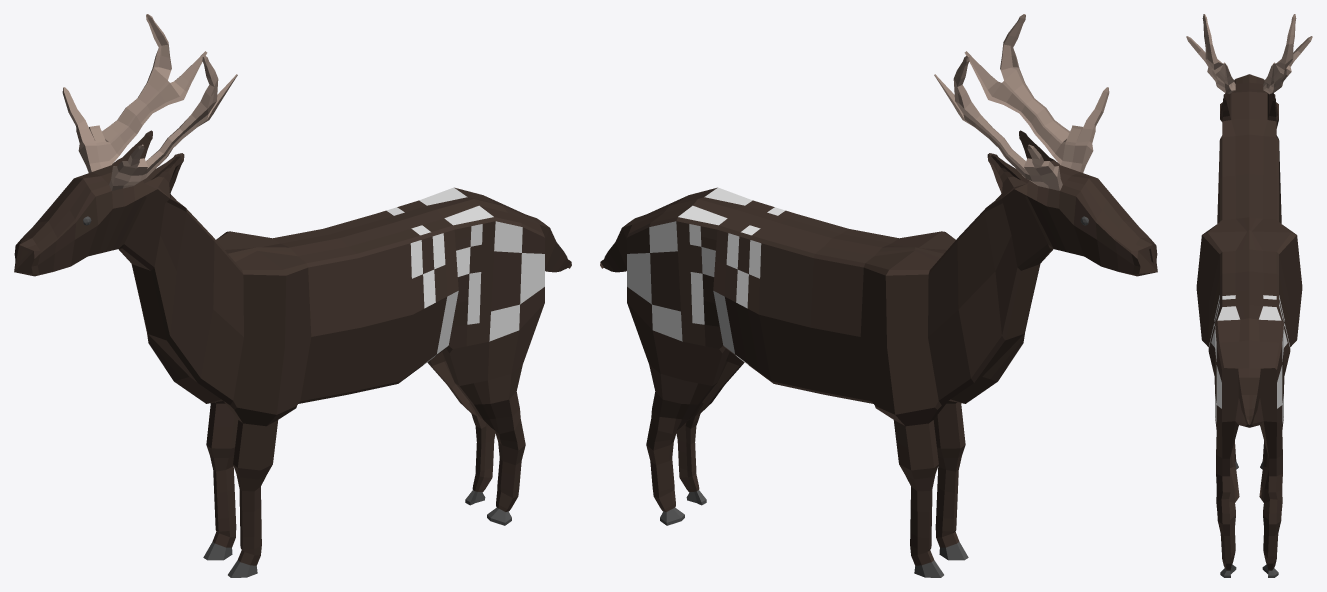
File: VisayanSpottedDeer.fbx
3 renders of one model, left to right at view 1: azimuth 30°, elevation 25°; view 2: azimuth 150°, elevation 25°; view 3: azimuth 270°, elevation 25°, orthographic. The views are drawn at different scales.
Parts seen in each view (by area): view 1: Plane; view 2: Plane; view 3: Plane.
Boxes of the visible parts, x1,y1,x2,y2 form: Plane: [14, 14, 571, 577]; Plane: [600, 14, 1157, 577]; Plane: [1186, 14, 1312, 577].
Size of the model in its own units: 368 by 350 by 91.02.
